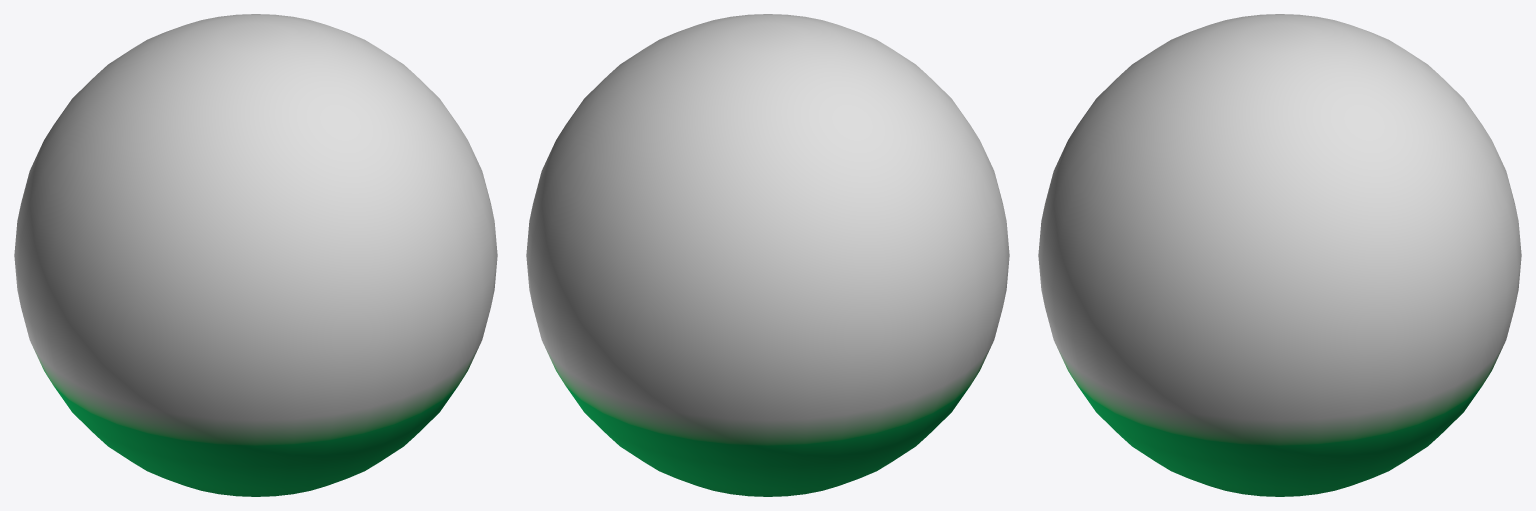
File: sky_beach_cannon.glb
3 views of the same model, side by side, from view 1: azimuth 30°, elevation 25°; view 2: azimuth 150°, elevation 25°; view 3: azimuth 270°, elevation 25° (orthographic).
Parts seen in each view (by area): view 1: SkyMesh; view 2: SkyMesh; view 3: SkyMesh.
Part boxes in pixels (box(x1,y1,x2,y2)): SkyMesh: box(14, 14, 497, 496); SkyMesh: box(526, 14, 1009, 496); SkyMesh: box(1038, 14, 1521, 496).
Size of the model in its own units: 180000 by 177784 by 180000.
